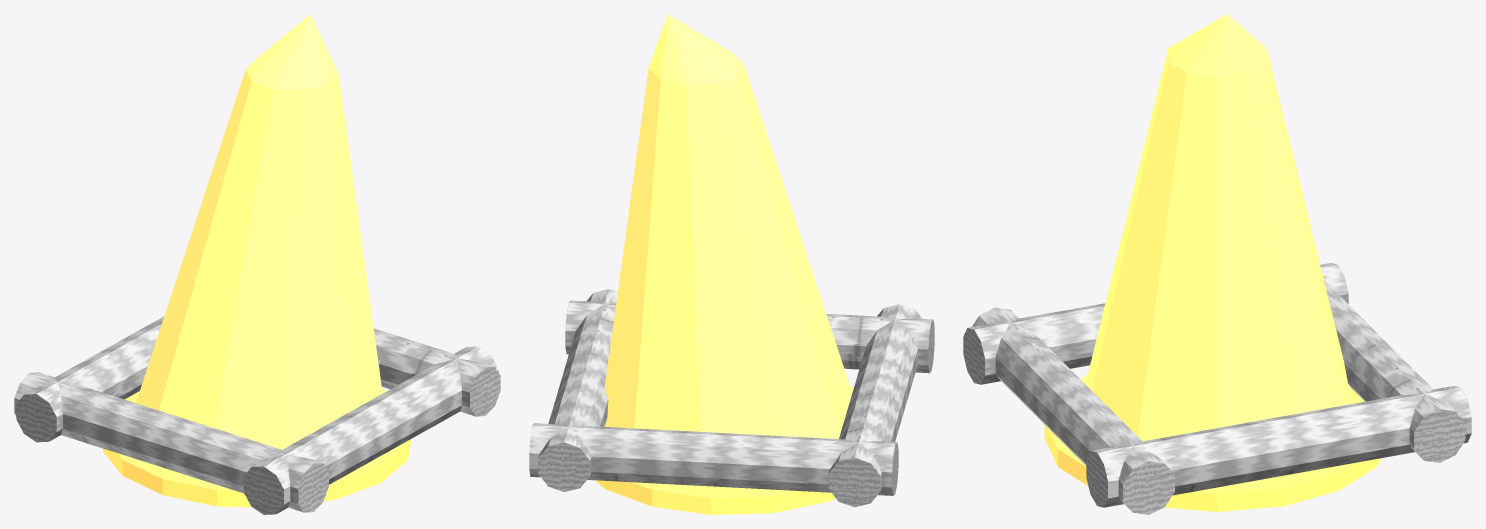
The model's file is campfire.glb.
3 views of the same model, side by side, from view 1: azimuth 30°, elevation 25°; view 2: azimuth 150°, elevation 25°; view 3: azimuth 270°, elevation 25° (orthographic). The views are drawn at different scales.
Visible parts, largest first — view 1: Campfire_Flame_Outer, Campfire_Log_3, Campfire_Log_4, Campfire_Log_2, Campfire_Base, Campfire_Log_1; view 2: Campfire_Flame_Outer, Campfire_Log_2, Campfire_Log_3, Campfire_Log_1, Campfire_Base, Campfire_Log_4; view 3: Campfire_Flame_Outer, Campfire_Log_1, Campfire_Log_4, Campfire_Log_2, Campfire_Base, Campfire_Log_3.
Boxes of the visible parts, left/top/right/bottom form: Campfire_Flame_Outer: left=136, top=14, right=382, bottom=449; Campfire_Log_3: left=14, top=372, right=328, bottom=512; Campfire_Log_4: left=243, top=346, right=498, bottom=514; Campfire_Log_2: left=16, top=316, right=164, bottom=442; Campfire_Base: left=103, top=389, right=410, bottom=507; Campfire_Log_1: left=373, top=328, right=500, bottom=416; Campfire_Flame_Outer: left=604, top=14, right=852, bottom=438; Campfire_Log_2: left=529, top=423, right=898, bottom=495; Campfire_Log_3: left=828, top=304, right=922, bottom=507; Campfire_Log_1: left=538, top=289, right=617, bottom=491; Campfire_Base: left=595, top=387, right=853, bottom=514; Campfire_Log_4: left=565, top=300, right=934, bottom=373; Campfire_Flame_Outer: left=1085, top=14, right=1354, bottom=441; Campfire_Log_1: left=1086, top=386, right=1471, bottom=507; Campfire_Log_4: left=972, top=307, right=1174, bottom=514; Campfire_Log_2: left=1324, top=280, right=1465, bottom=462; Campfire_Base: left=1044, top=374, right=1380, bottom=511; Campfire_Log_3: left=963, top=263, right=1348, bottom=384.
Size of the model in its own units: 1.03 by 1.02 by 1.03.
Materials: 6 (2 with a texture image).
